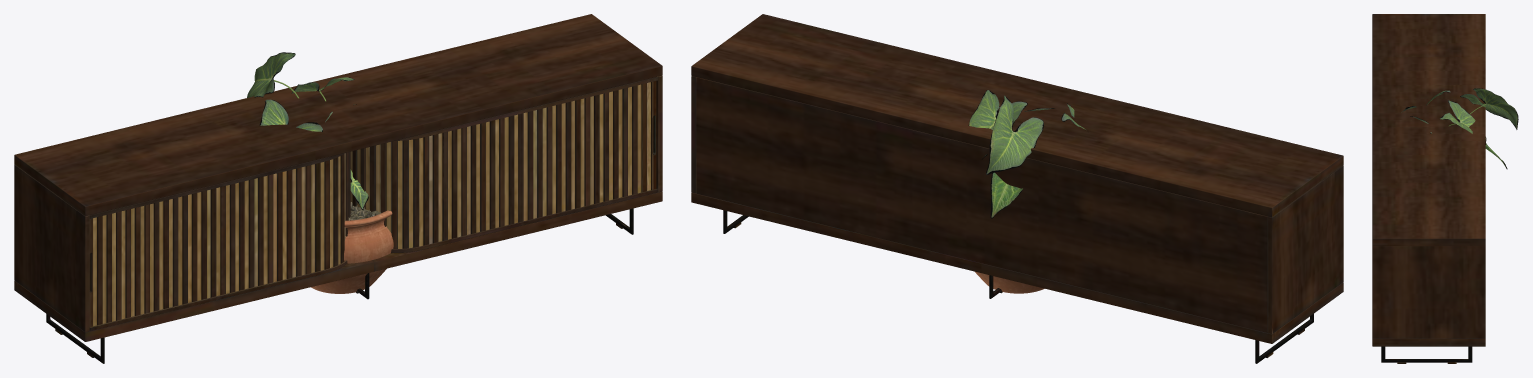
Rendered from office-props.glb.
3 views of the same model, side by side, from view 1: azimuth 30°, elevation 25°; view 2: azimuth 150°, elevation 25°; view 3: azimuth 270°, elevation 25° (orthographic). The views are drawn at different scales.
Visible parts, largest first — view 1: modern_wooden_cabinet_body, modern_wooden_cabinet_door_r, modern_wooden_cabinet_door_l, potted_plant_02_pot, potted_plant_02_leaves; view 2: modern_wooden_cabinet_body, potted_plant_02_leaves, potted_plant_02_pot; view 3: modern_wooden_cabinet_body, potted_plant_02_leaves.
Part boxes in pixels (<box>): modern_wooden_cabinet_body: <box>14,14,662,363</box>; modern_wooden_cabinet_door_r: <box>350,81,656,248</box>; modern_wooden_cabinet_door_l: <box>89,151,350,326</box>; potted_plant_02_pot: <box>311,210,393,293</box>; potted_plant_02_leaves: <box>247,52,368,210</box>; modern_wooden_cabinet_body: <box>691,14,1343,363</box>; potted_plant_02_leaves: <box>968,90,1085,218</box>; potted_plant_02_pot: <box>975,271,1044,293</box>; modern_wooden_cabinet_body: <box>1372,14,1485,363</box>; potted_plant_02_leaves: <box>1401,88,1518,169</box>.
Size of the model in its own units: 2.44 by 0.8412 by 0.6703.
3 materials, 3 textured.
